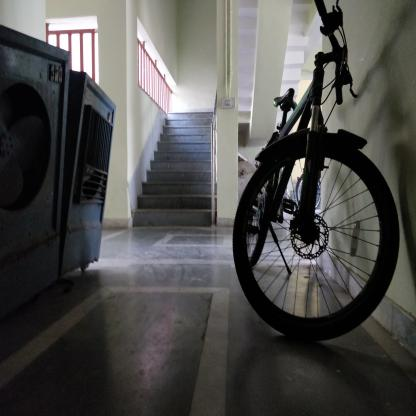stairs: (169, 110, 211, 230)
